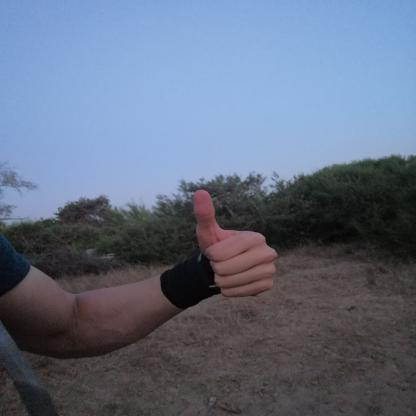ALIF: (174, 181, 288, 306)
